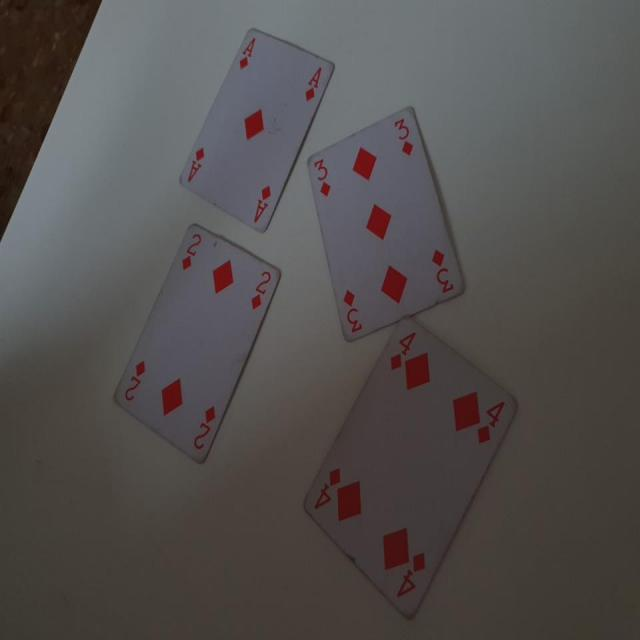2 Diamonds: (110, 222, 283, 475)
3 Diamonds: (306, 108, 468, 346)
4 Diamonds: (299, 317, 523, 627)
A Diamonds: (170, 19, 340, 241)
